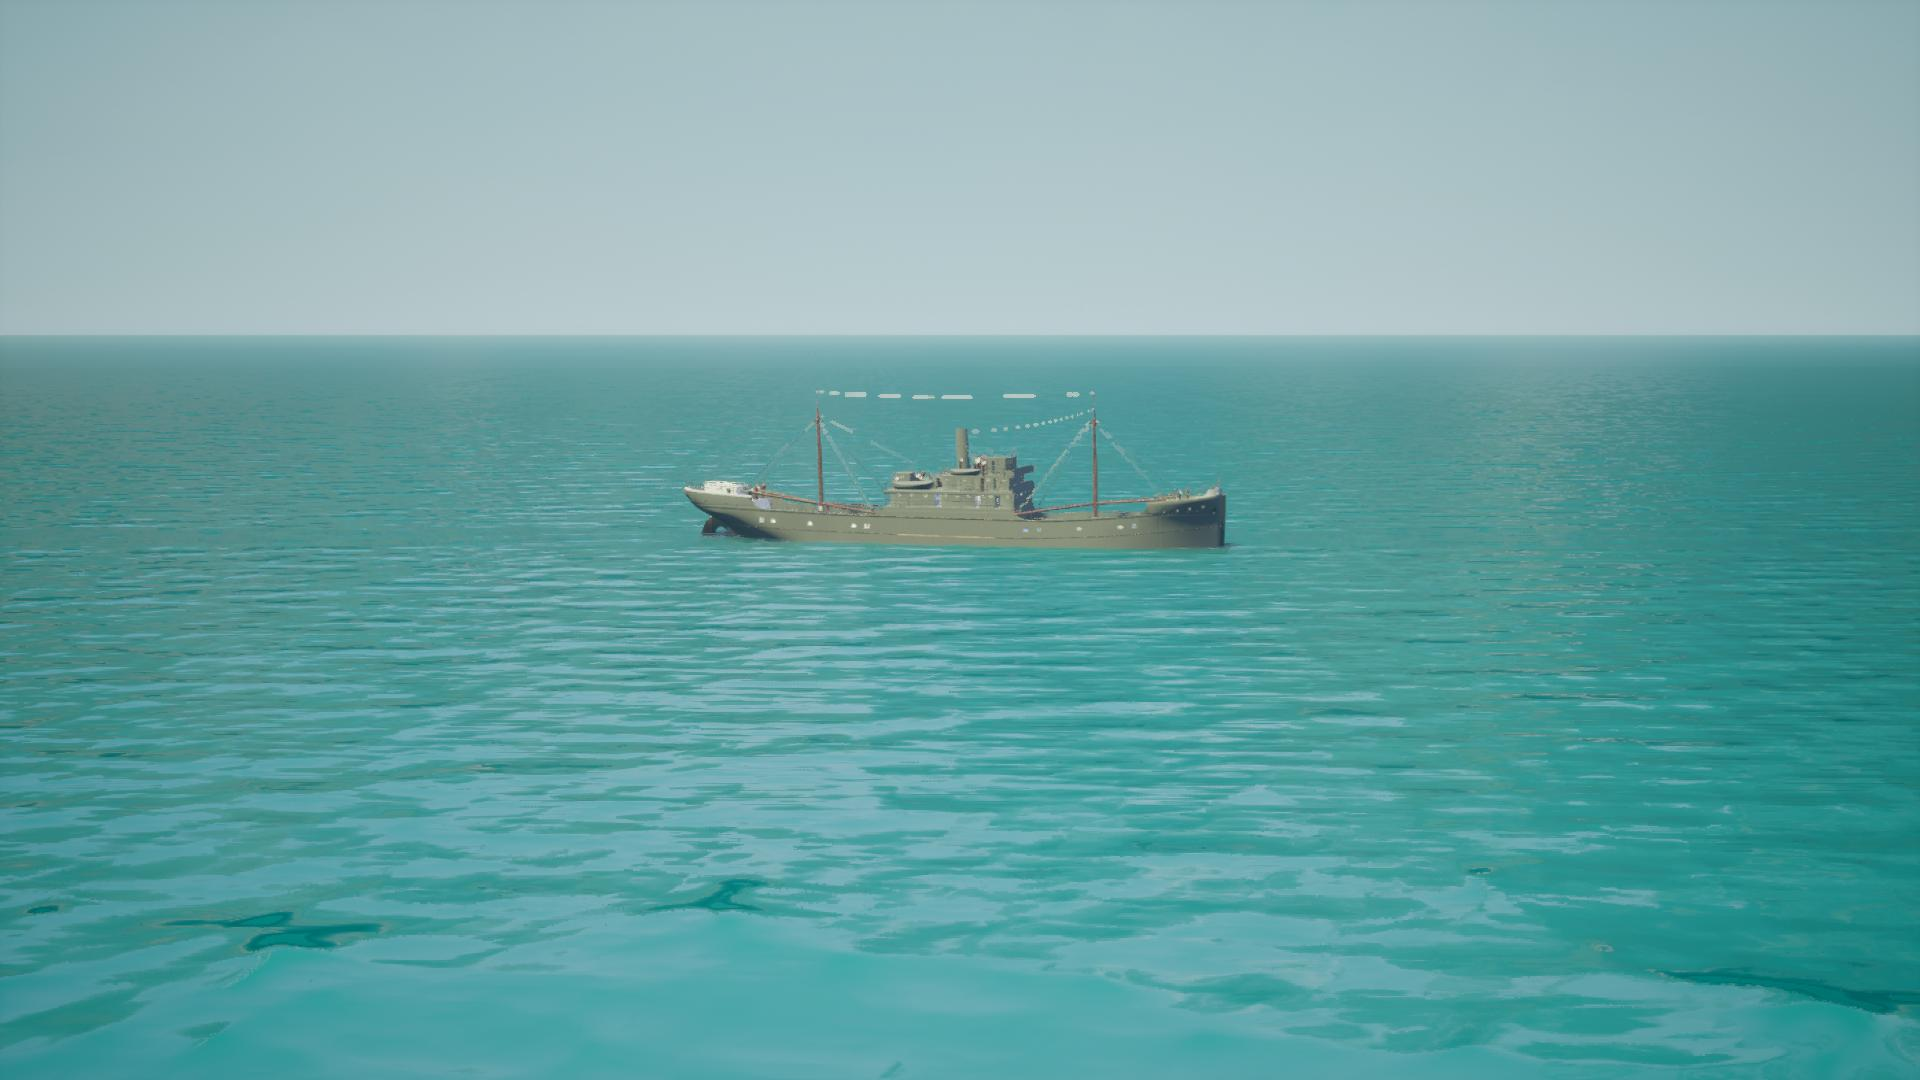Fishing Boat: (683, 394, 1233, 550)
